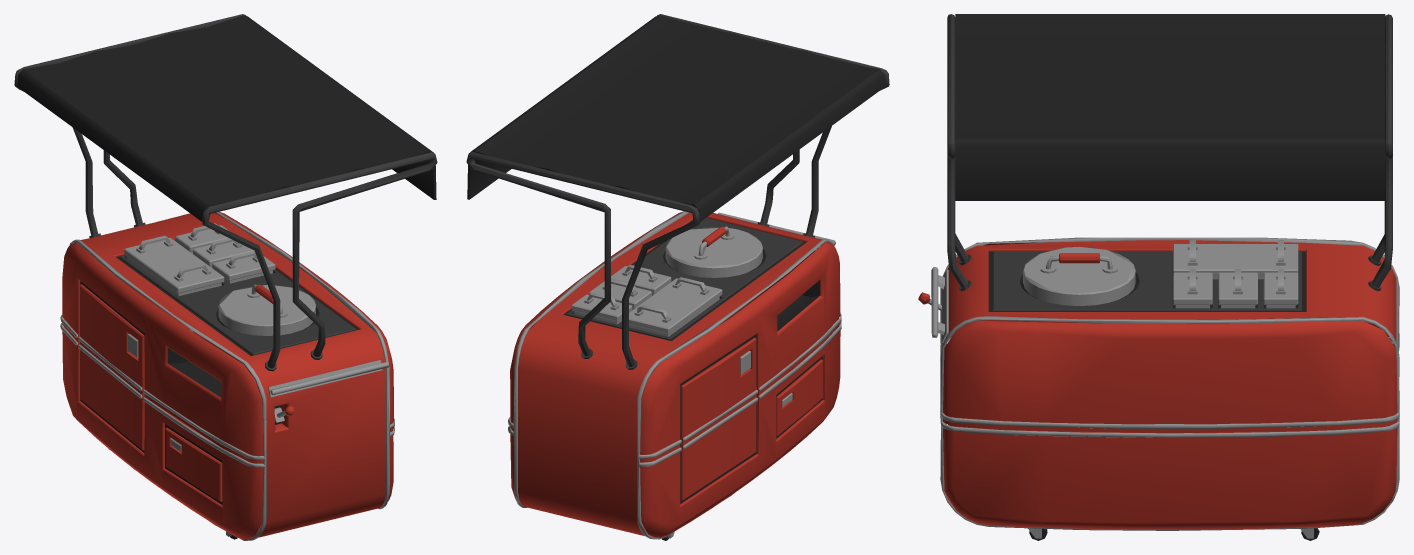
The model's file is foodcart_sf.glb.
3 renders of one model, left to right at view 1: azimuth 30°, elevation 25°; view 2: azimuth 150°, elevation 25°; view 3: azimuth 270°, elevation 25°, orthographic. The views are drawn at different scales.
Visible parts, largest first — view 1: ice-cream-tent_Metallic Red_0, ice-cream-tent_Matte black_0, ice-cream-tent_Light metal_0, ice-cream-tent_Dark Metal_0; view 2: ice-cream-tent_Metallic Red_0, ice-cream-tent_Matte black_0, ice-cream-tent_Light metal_0, ice-cream-tent_Dark Metal_0; view 3: ice-cream-tent_Metallic Red_0, ice-cream-tent_Matte black_0, ice-cream-tent_Light metal_0, ice-cream-tent_Dark Metal_0.
Boxes of the visible parts, <box> form: ice-cream-tent_Metallic Red_0: <box>62,211,393,539</box>; ice-cream-tent_Matte black_0: <box>17,15,436,539</box>; ice-cream-tent_Light metal_0: <box>60,212,394,540</box>; ice-cream-tent_Dark Metal_0: <box>14,14,437,371</box>; ice-cream-tent_Metallic Red_0: <box>510,211,840,537</box>; ice-cream-tent_Matte black_0: <box>467,15,885,540</box>; ice-cream-tent_Light metal_0: <box>508,211,841,539</box>; ice-cream-tent_Dark Metal_0: <box>466,14,889,369</box>; ice-cream-tent_Metallic Red_0: <box>918,240,1397,529</box>; ice-cream-tent_Matte black_0: <box>955,14,1385,540</box>; ice-cream-tent_Light metal_0: <box>928,237,1399,538</box>; ice-cream-tent_Dark Metal_0: <box>947,14,1392,311</box>.
Size of the model in its own units: 1.38 by 2.1 by 2.11.
